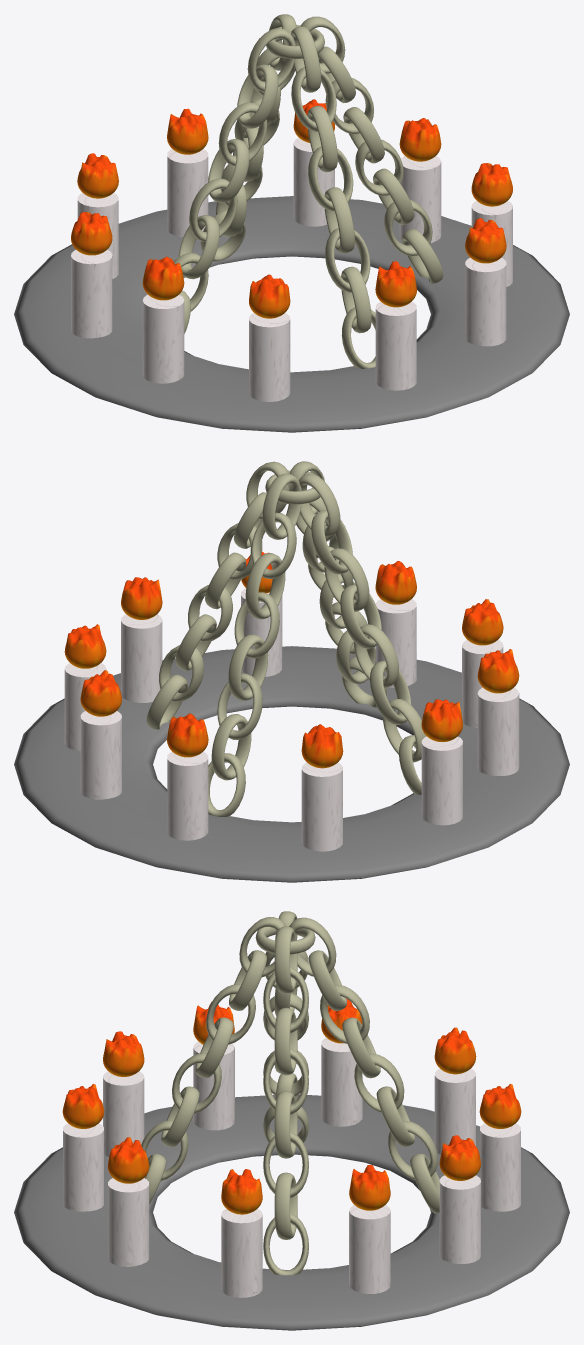
Rendered from Lamp.FBX.
The picture shows the model from 3 angles, top to bottom: view 1: azimuth 30°, elevation 25°; view 2: azimuth 150°, elevation 25°; view 3: azimuth 270°, elevation 25°; orthographic projection.
Parts seen in each view (by area): view 1: Torus001, Cylinder008, Cylinder002, Cylinder003, Cylinder010, Cylinder006, Cylinder001, Cylinder007, Cylinder009, Sphere002, Sphere001, Sphere007 (+37 smaller); view 2: Torus001, Cylinder008, Cylinder001, Cylinder004, Cylinder006, Cylinder009, Cylinder005, Cylinder002, Cylinder007, Cylinder010, Cylinder003, Sphere005 (+37 smaller); view 3: Torus001, Cylinder005, Cylinder007, Cylinder003, Cylinder009, Cylinder002, Cylinder001, Cylinder006, Cylinder004, Cylinder010, Cylinder008, Sphere005 (+36 smaller).
Part boxes in pixels (x1,y1,x2,y2): Torus001: (14,196,569,432); Cylinder008: (142,294,184,383); Cylinder002: (375,301,416,390); Cylinder003: (465,257,506,346); Cylinder010: (249,313,290,401); Cylinder006: (71,250,112,338); Cylinder001: (167,149,208,237); Cylinder007: (399,156,441,242); Cylinder009: (293,138,334,226); Sphere002: (375,261,416,307); Sphere001: (167,108,208,154); Sphere007: (399,118,441,161); Torus001: (14,646,569,882); Cylinder008: (477,687,519,775); Cylinder001: (167,751,208,840); Cylinder004: (301,762,342,851); Cylinder006: (421,736,462,825); Cylinder009: (80,711,121,799); Cylinder005: (121,614,162,702); Cylinder002: (375,599,416,687); Cylinder007: (64,663,106,750); Cylinder010: (462,639,503,728); Cylinder003: (241,588,282,676); Sphere005: (121,577,162,619); Torus001: (14,1094,569,1330); Cylinder005: (221,1209,262,1297); Cylinder007: (349,1205,390,1293); Cylinder003: (108,1178,149,1266); Cylinder009: (439,1175,480,1264); Cylinder002: (63,1123,103,1211); Cylinder001: (480,1123,520,1211); Cylinder006: (321,1038,362,1126); Cylinder004: (434,1068,475,1154); Cylinder010: (103,1071,144,1156); Cylinder008: (193,1041,234,1130); Sphere005: (221,1169,262,1214).
Size of what is drawn, in the model's own units: 80 by 48.22 by 80.
54 materials, 54 textured.
